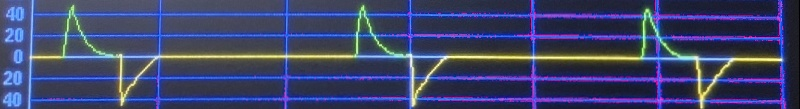normal_flow: (23, 0, 767, 109)
